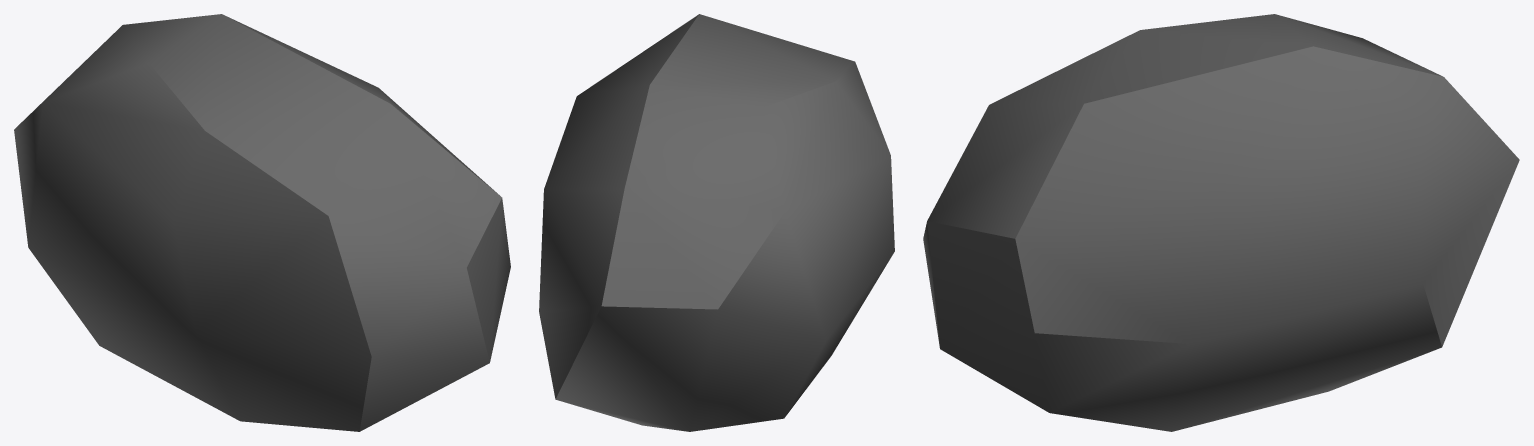
File: stone.fbx
3 renders of one model, left to right at view 1: azimuth 30°, elevation 25°; view 2: azimuth 150°, elevation 25°; view 3: azimuth 270°, elevation 25°, orthographic. The views are drawn at different scales.
Visible parts, largest first — view 1: rockold; view 2: rockold; view 3: rockold.
Boxes of the visible parts, <box> form: rockold: <box>14,14,510,431</box>; rockold: <box>539,14,894,431</box>; rockold: <box>923,14,1519,431</box>.
Bounding box in the file's own units: 362 × 346 × 521.
